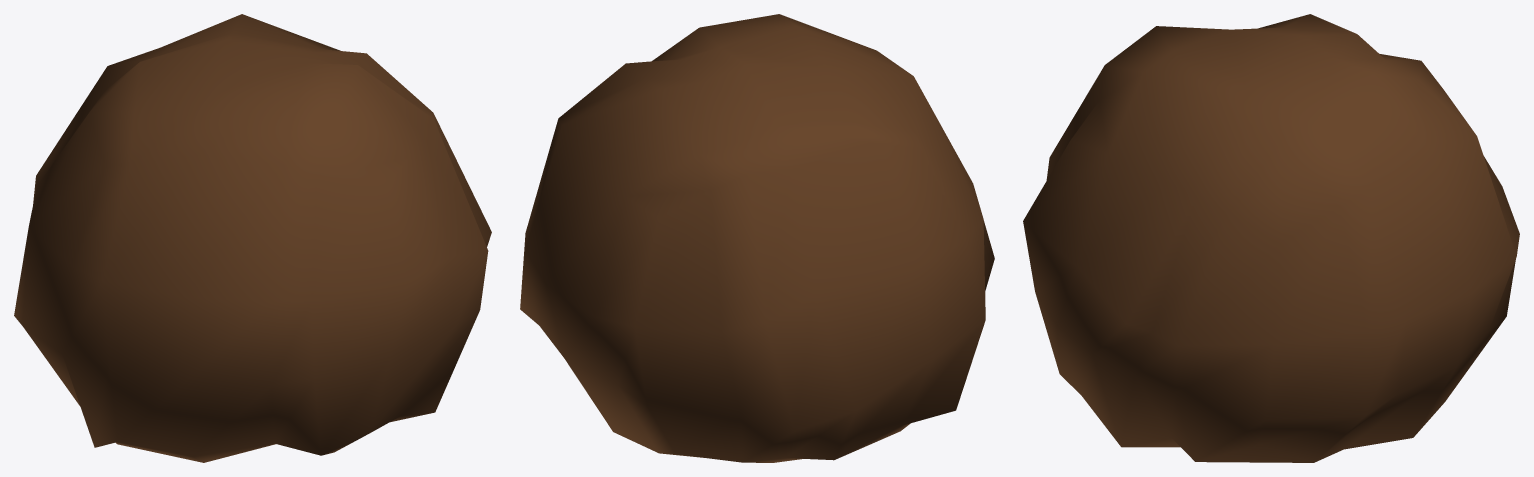
File: coolRock.fbx
3 views of the same model, side by side, from view 1: azimuth 30°, elevation 25°; view 2: azimuth 150°, elevation 25°; view 3: azimuth 270°, elevation 25° (orthographic). The views are drawn at different scales.
Parts seen in each view (by area): view 1: group2; view 2: group2; view 3: group2.
Boxes of the visible parts, x1,y1,x2,y2 form: group2: [14, 14, 491, 462]; group2: [520, 14, 994, 462]; group2: [1023, 14, 1519, 462].
Size of the model in its own units: 99.63 by 83.88 by 99.85.
